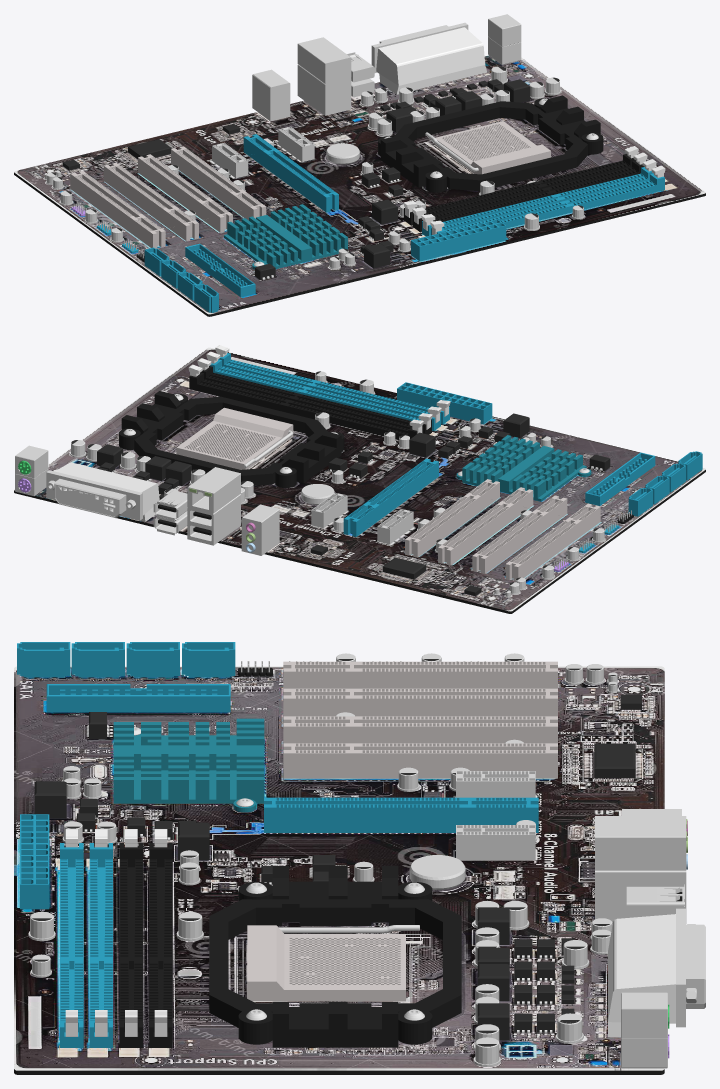
File: Motherboard.fbx
The picture shows the model from 3 angles, top to bottom: view 1: azimuth 30°, elevation 25°; view 2: azimuth 150°, elevation 25°; view 3: azimuth 270°, elevation 25°; orthographic projection. The views are drawn at different scales.
Parts seen in each view (by area): view 1: Base, Holder, DVI Plug, Heat Sink, CPU Socket, Cube.013, Cube.042, Cube.040, Cube.041, Cube.039, Cube.036, Cube.001 (+20 smaller); view 2: Base, Heat Sink, Holder, DVI Plug, CPU Socket, Cube.010, Cube.013, Cube.042, Cube.040, Cube.039, Cube.041, Cube.036 (+26 smaller); view 3: Base, Heat Sink, Holder, CPU Socket, Cube.042, Cube.036, DVI Plug, Cube.013, Cube.040, Cube.041, Cube.039, Plug (+30 smaller).
Part boxes in pixels (x1,y1,x2,y2): Base: [14, 55, 705, 316]; Holder: [394, 101, 587, 191]; DVI Plug: [371, 22, 487, 94]; Heat Sink: [224, 204, 347, 268]; CPU Socket: [434, 121, 550, 174]; Cube.013: [380, 95, 600, 187]; Cube.042: [243, 134, 338, 212]; Cube.040: [103, 162, 198, 241]; Cube.041: [70, 171, 165, 248]; Cube.039: [138, 154, 232, 232]; Cube.036: [171, 146, 266, 220]; Cube.001: [431, 173, 664, 235]; Base: [14, 347, 705, 613]; Heat Sink: [462, 435, 586, 501]; Holder: [134, 396, 327, 485]; DVI Plug: [46, 462, 159, 521]; CPU Socket: [176, 407, 293, 469]; Cube.010: [189, 372, 423, 439]; Cube.013: [121, 391, 341, 482]; Cube.042: [343, 458, 438, 536]; Cube.040: [472, 495, 567, 573]; Cube.039: [438, 487, 533, 565]; Cube.041: [505, 503, 600, 581]; Cube.036: [405, 479, 499, 557]; Base: [14, 666, 664, 1074]; Heat Sink: [113, 718, 264, 803]; Holder: [209, 899, 461, 1027]; CPU Socket: [247, 925, 405, 1001]; Cube.042: [264, 797, 538, 832]; Cube.036: [283, 743, 557, 778]; DVI Plug: [608, 908, 705, 1037]; Cube.013: [272, 866, 398, 1047]; Cube.040: [283, 688, 557, 716]; Cube.041: [283, 661, 557, 688]; Cube.039: [283, 716, 557, 743]; Plug: [46, 684, 230, 712].
Size of the model in its own units: 339 by 35.59 by 245.
